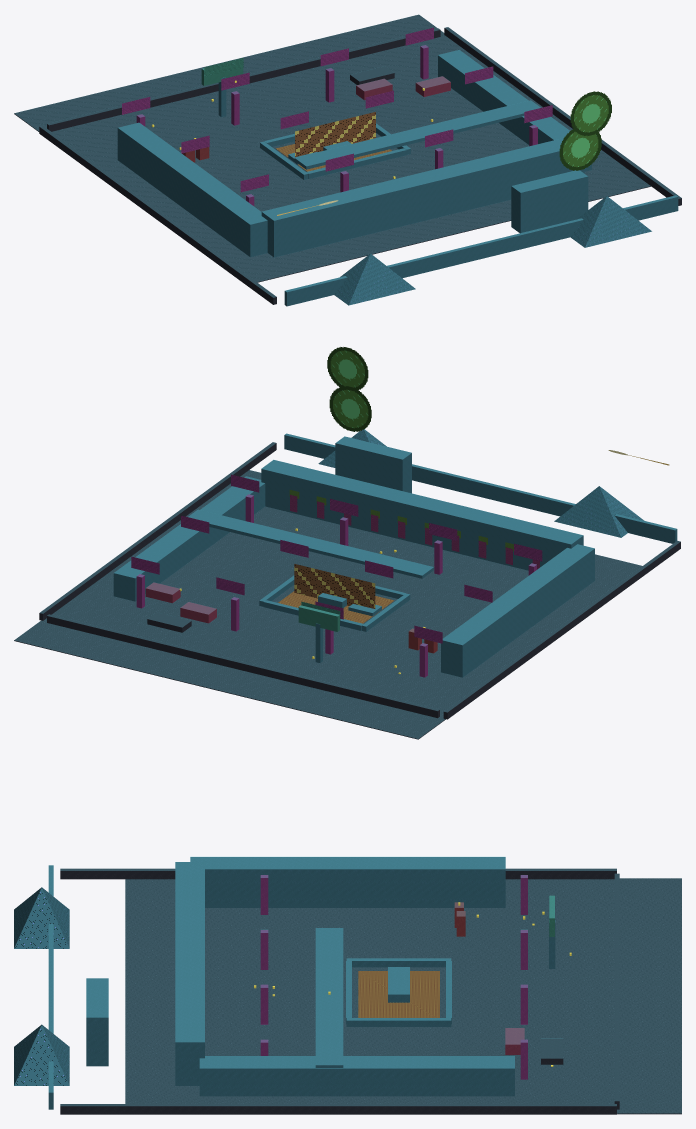
The model's file is motel-mirage.glb.
3 views of the same model, one above another, from view 1: azimuth 30°, elevation 25°; view 2: azimuth 150°, elevation 25°; view 3: azimuth 270°, elevation 25° (orthographic). The views are drawn at different scales.
Visible parts, largest first — view 1: ART_motel-mirage_wet_asphalt_courtyard, WALKABLE_motel-mirage_wet_asphalt_courtyard, ART_motel-mirage_rear_motel_block, ART_motel-mirage_left_motel_wing, ART_motel-mirage_north_fence, ART_motel-mirage_warped_rear_room_block, ART_motel-mirage_right_covered_walkway, WALKABLE_motel-mirage_rear_motel_block, ART_motel-mirage_covered_walkway_roof, WALKABLE_motel-mirage_left_motel_wing, ART_motel-mirage_south_parking_curb, ART_motel-mirage_west_parking_curb (+18 smaller); view 2: ART_motel-mirage_wet_asphalt_courtyard, WALKABLE_motel-mirage_wet_asphalt_courtyard, ART_motel-mirage_rear_motel_block, ART_motel-mirage_left_motel_wing, ART_motel-mirage_right_covered_walkway, ART_motel-mirage_north_fence, ART_motel-mirage_south_parking_curb, WALKABLE_motel-mirage_rear_motel_block, ART_motel-mirage_covered_walkway_roof, ART_motel-mirage_warped_rear_room_block, WALKABLE_motel-mirage_left_motel_wing, ART_motel-mirage_west_parking_curb (+13 smaller); view 3: ART_motel-mirage_wet_asphalt_courtyard, WALKABLE_motel-mirage_wet_asphalt_courtyard, ART_motel-mirage_left_motel_wing, ART_motel-mirage_right_covered_walkway, ART_motel-mirage_rear_motel_block, ART_motel-mirage_east_parking_curb, WALKABLE_motel-mirage_rear_motel_block, ART_motel-mirage_covered_walkway_roof, WALKABLE_motel-mirage_right_covered_walkway, WALKABLE_motel-mirage_covered_walkway_roof, WALKABLE_motel-mirage_left_motel_wing, ART_motel-mirage_mostly_empty_pool_water_shimmer (+13 smaller).
Part boxes in pixels (x1,y1,x2,y2): ART_motel-mirage_wet_asphalt_courtyard: (14, 14, 650, 282); WALKABLE_motel-mirage_wet_asphalt_courtyard: (14, 15, 649, 281); ART_motel-mirage_rear_motel_block: (261, 138, 584, 257); ART_motel-mirage_left_motel_wing: (117, 122, 267, 257); ART_motel-mirage_north_fence: (284, 195, 678, 306); ART_motel-mirage_warped_rear_room_block: (511, 170, 588, 233); ART_motel-mirage_right_covered_walkway: (438, 50, 591, 171); WALKABLE_motel-mirage_rear_motel_block: (262, 138, 563, 220); ART_motel-mirage_covered_walkway_roof: (294, 100, 540, 169); WALKABLE_motel-mirage_left_motel_wing: (119, 123, 266, 224); ART_motel-mirage_south_parking_curb: (47, 28, 440, 131); ART_motel-mirage_west_parking_curb: (39, 126, 276, 304); ART_motel-mirage_wet_asphalt_courtyard: (14, 470, 642, 739); WALKABLE_motel-mirage_wet_asphalt_courtyard: (15, 470, 641, 738); ART_motel-mirage_rear_motel_block: (261, 460, 583, 570); ART_motel-mirage_left_motel_wing: (441, 544, 594, 677); ART_motel-mirage_right_covered_walkway: (113, 476, 265, 601); ART_motel-mirage_north_fence: (284, 433, 677, 543); ART_motel-mirage_south_parking_curb: (47, 614, 439, 718); WALKABLE_motel-mirage_rear_motel_block: (262, 460, 582, 543); ART_motel-mirage_covered_walkway_roof: (188, 509, 433, 578); ART_motel-mirage_warped_rear_room_block: (335, 436, 411, 493); WALKABLE_motel-mirage_left_motel_wing: (443, 544, 593, 644); ART_motel-mirage_west_parking_curb: (443, 541, 680, 719); ART_motel-mirage_wet_asphalt_courtyard: (125, 878, 681, 1114); WALKABLE_motel-mirage_wet_asphalt_courtyard: (125, 878, 681, 1113); ART_motel-mirage_left_motel_wing: (190, 857, 505, 907); ART_motel-mirage_right_covered_walkway: (199, 1056, 514, 1096); ART_motel-mirage_rear_motel_block: (175, 862, 204, 1085); ART_motel-mirage_east_parking_curb: (60, 1104, 616, 1114); WALKABLE_motel-mirage_rear_motel_block: (175, 862, 204, 1041); ART_motel-mirage_covered_walkway_roof: (315, 928, 343, 1067); WALKABLE_motel-mirage_right_covered_walkway: (200, 1056, 514, 1068); WALKABLE_motel-mirage_covered_walkway_roof: (316, 928, 342, 1064); WALKABLE_motel-mirage_left_motel_wing: (190, 857, 505, 868); ART_motel-mirage_mostly_empty_pool_water_shimmer: (358, 971, 439, 1017).
Size of what is drawn, in the model's own units: 61.27 by 28.02 by 72.
13 materials, 11 textured.
